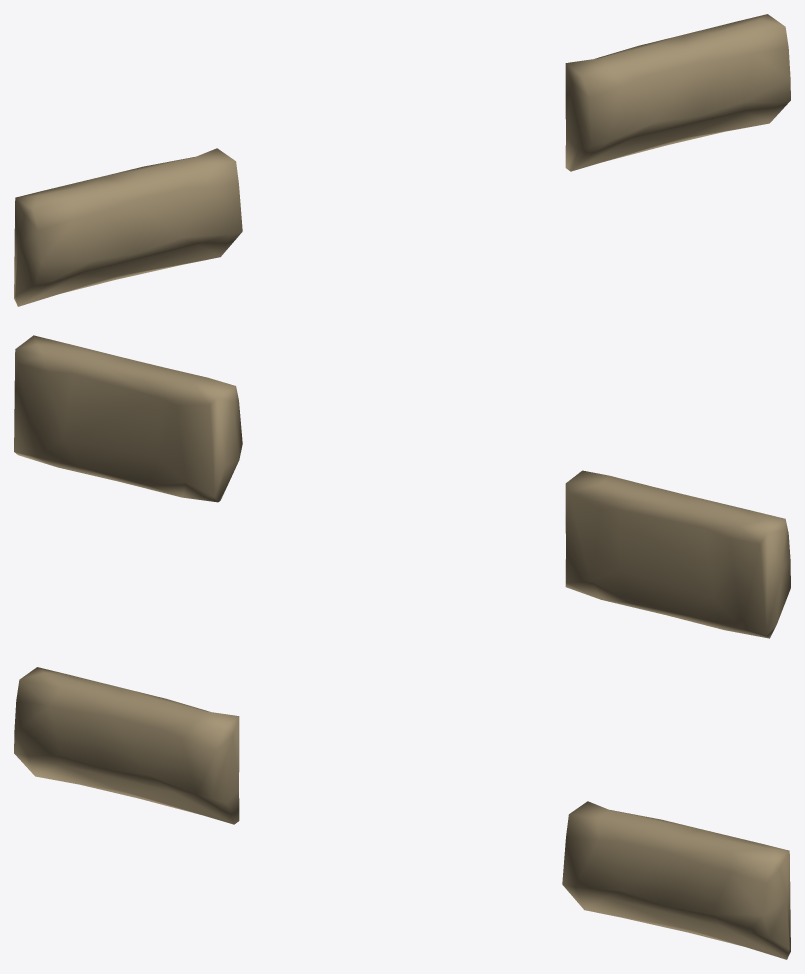
The model's file is Sofa.004.fbx.
3 renders of one model, top to bottom at view 1: azimuth 30°, elevation 25°; view 2: azimuth 150°, elevation 25°; view 3: azimuth 330°, elevation 25°, orthographic.
Parts seen in each view (by area): view 1: Sofa.004; view 2: Sofa.004; view 3: Sofa.004.
Boxes of the visible parts, left/top/right/bottom form: Sofa.004: left=14, top=14, right=790, bottom=306; Sofa.004: left=14, top=335, right=790, bottom=638; Sofa.004: left=14, top=667, right=790, bottom=959.
Bounding box in the file's own units: 366 × 51.2 × 25.81.
